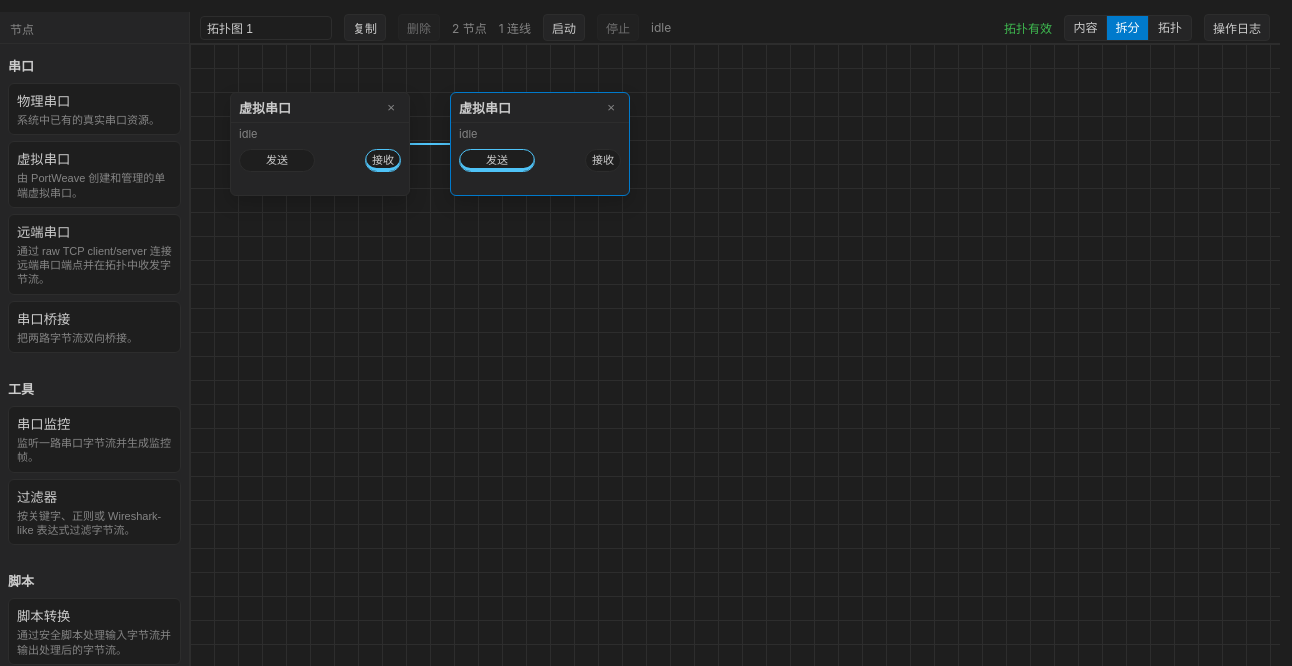
Test: SerialGraphPanel › polls the selected endpoint buffer automatically after runtime start
The width and height of the screenshot is (1292, 666).
Click the button with test id "serial-graph-start" at (564, 28), box [543,14,585,41]
(page scrolled)
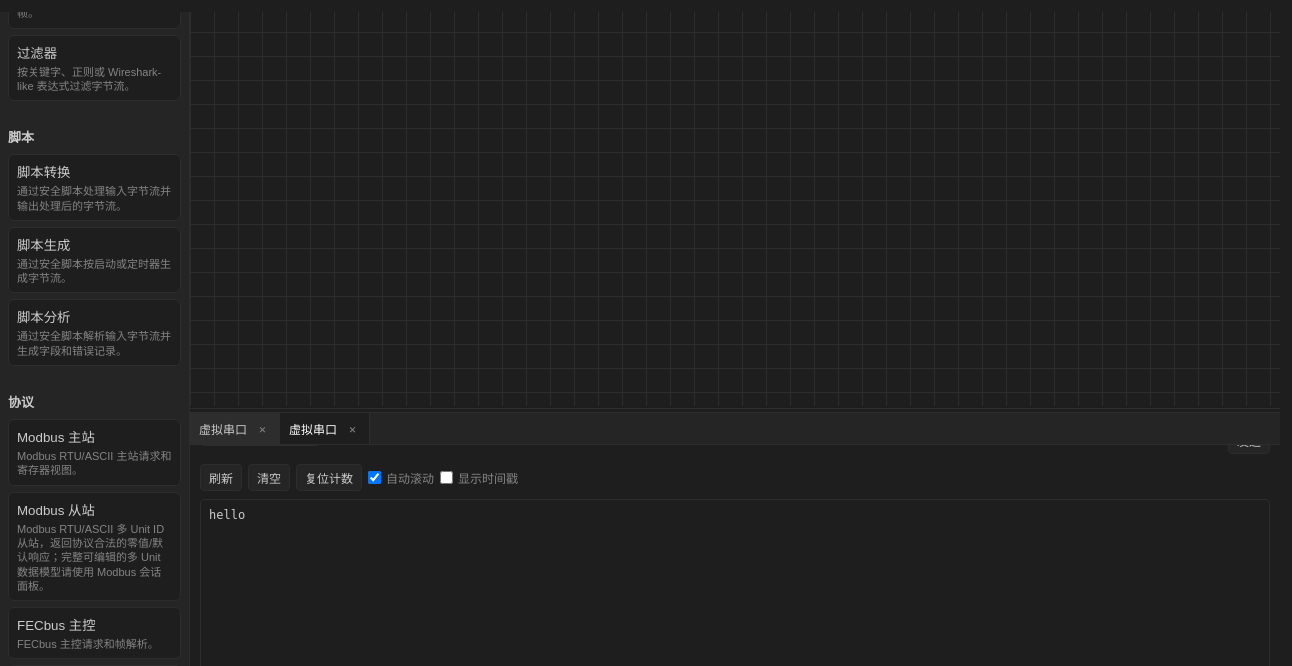
Result: the text with test id "serial-graph-content-node-buffer" reads "hello" at [209,508,245,522]
